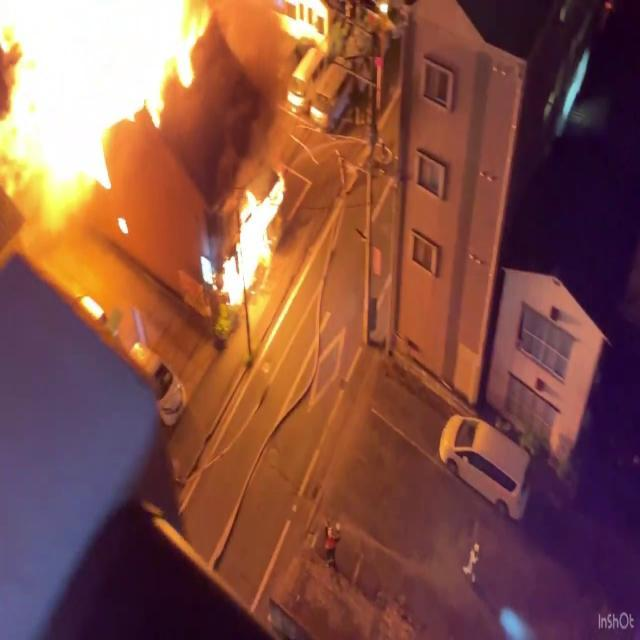Fire: (0, 0, 214, 216), (214, 173, 290, 319)
